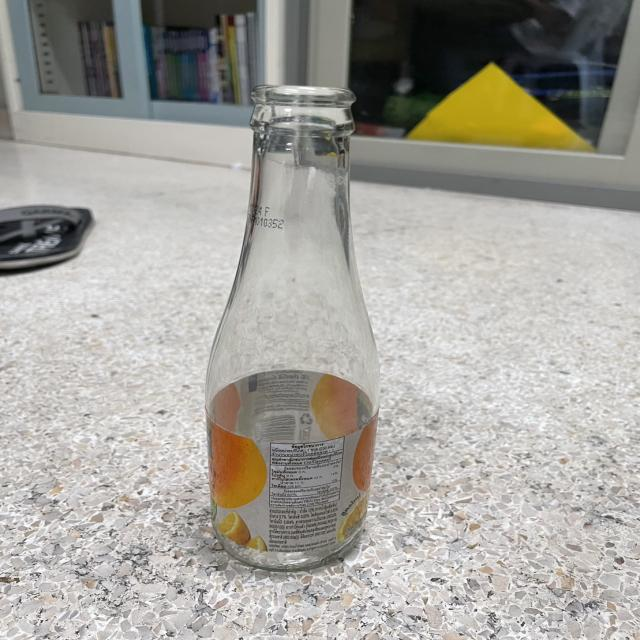glass-bottle: (166, 73, 419, 593)
